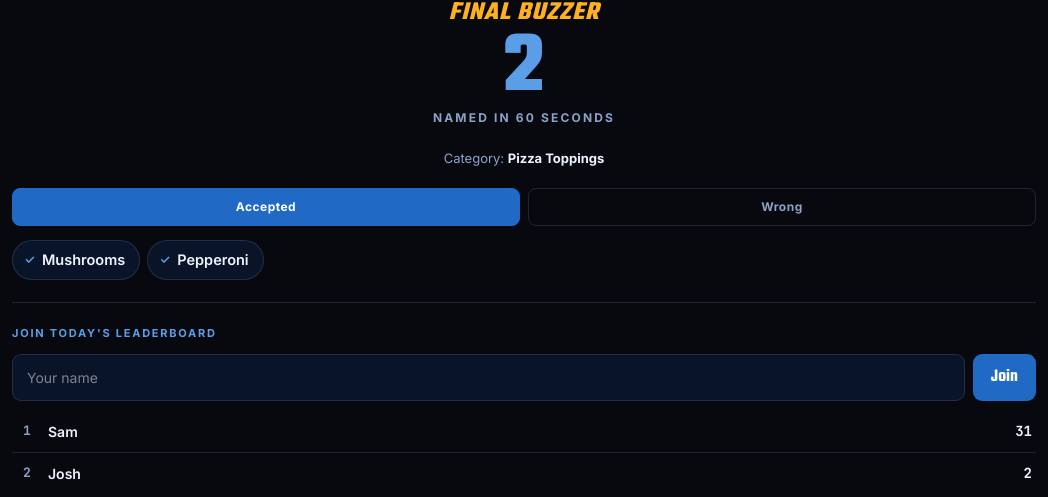
Test case: BallKnowledgeFinishResult › switches between accepted and wrong answers
Check: the text "Pepperoni" is shown, box [177,249,249,271]
Check: the text "gravel" is not shown
Step 1. Click the button "Wrong" → (782, 207), box [528,188,1036,226]
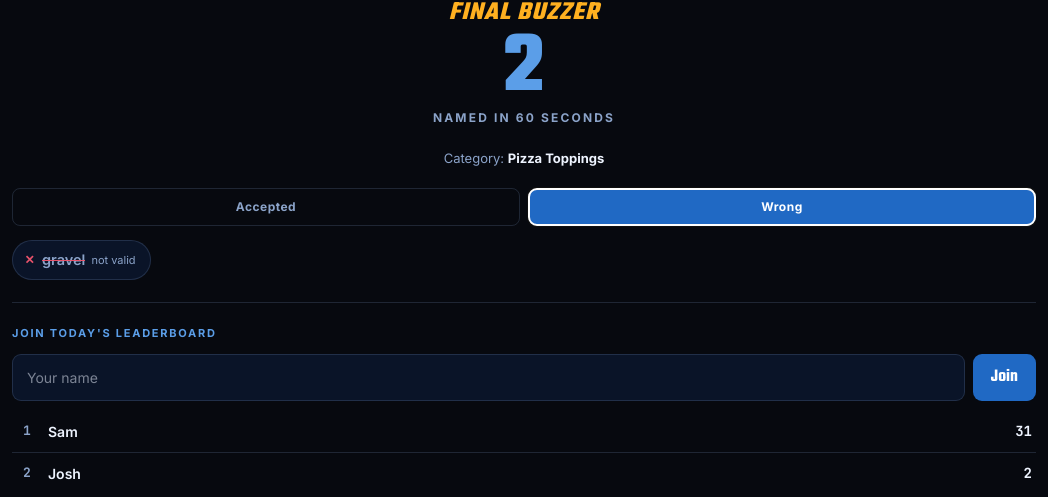
Check: the text "gravel" is shown, box [42,249,85,271]
Check: the text "Pepperoni" is gone
